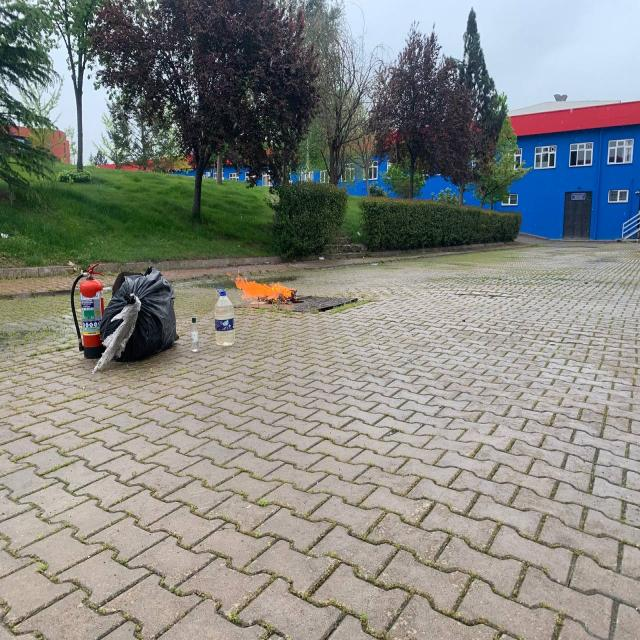fire: (234, 269, 301, 303)
